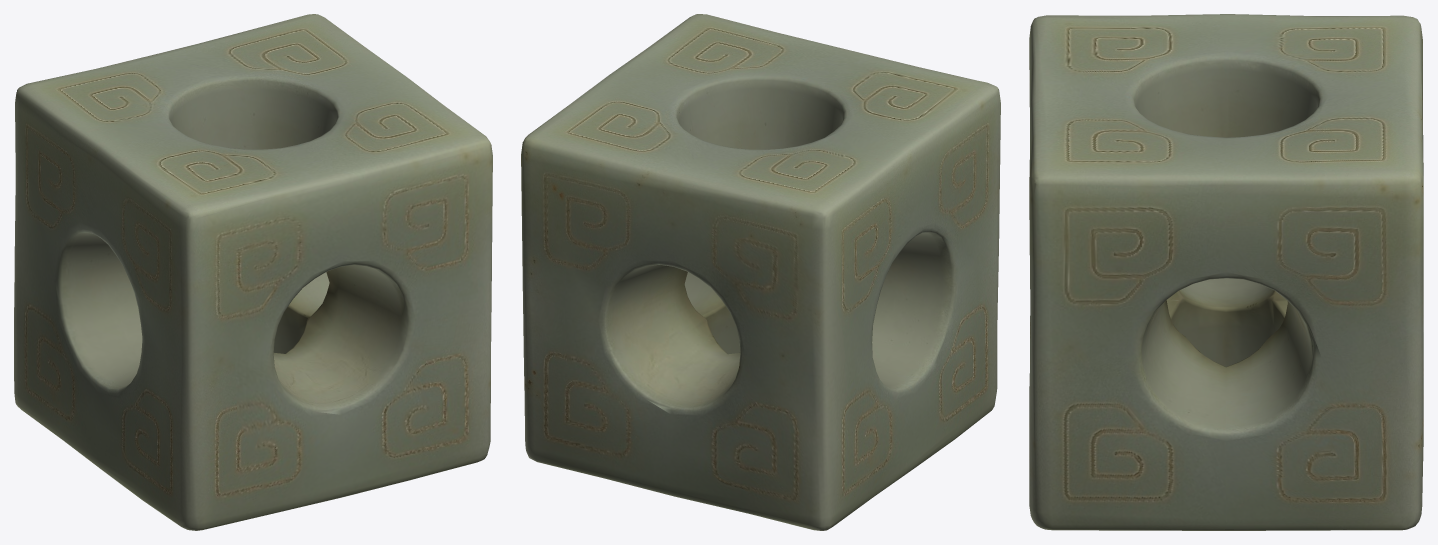
The model's file is tripo_convert_a34eec80-c9b9-43c7-bb11-0933944fe392.fbx.
3 renders of one model, left to right at view 1: azimuth 30°, elevation 25°; view 2: azimuth 150°, elevation 25°; view 3: azimuth 270°, elevation 25°, orthographic. The views are drawn at different scales.
Parts seen in each view (by area): view 1: tripo_node_a34eec80; view 2: tripo_node_a34eec80; view 3: tripo_node_a34eec80.
Part boxes in pixels (x1=…): tripo_node_a34eec80: x1=14, y1=14, x2=492, y2=530; tripo_node_a34eec80: x1=521, y1=14, x2=1000, y2=530; tripo_node_a34eec80: x1=1029, y1=14, x2=1423, y2=530.
Size of the model in its own units: 0.998 by 0.998 by 0.998.
Materials: 1 (1 with a texture image).
